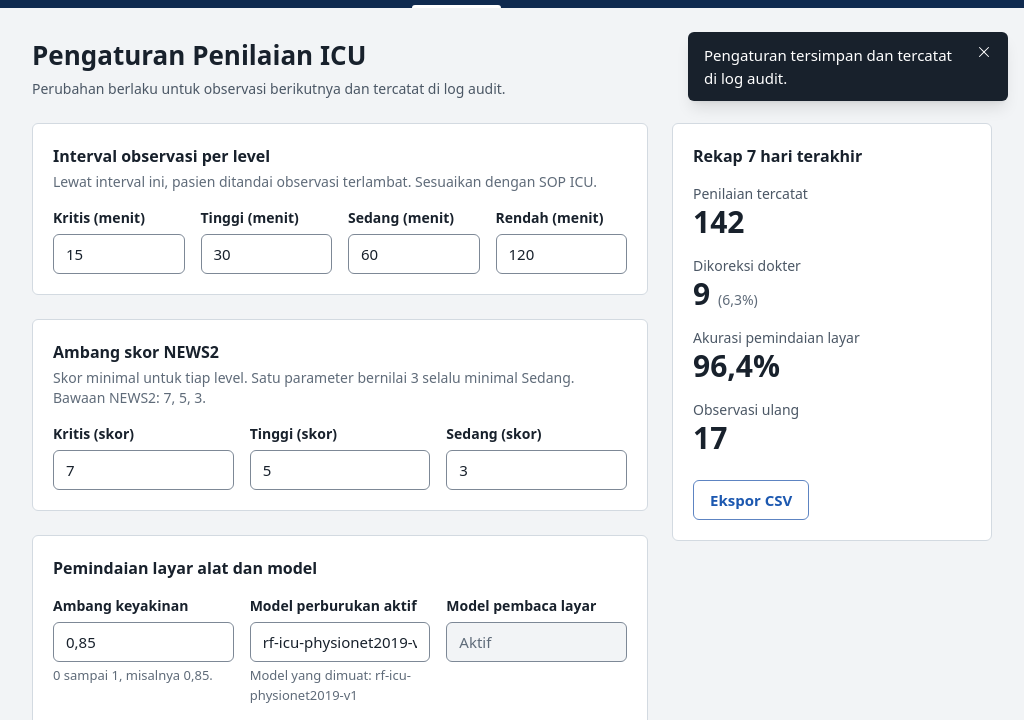
Test: Pengaturan Penilaian ICU › memeriksa isian di klien
Expected: the field showing "rf-icu-physionet2019-v1" is shown, [250, 622, 430, 662]
Replace the text in the field labelled "Kritis (skor)" with "40" at (143, 470), box [53, 450, 234, 490]
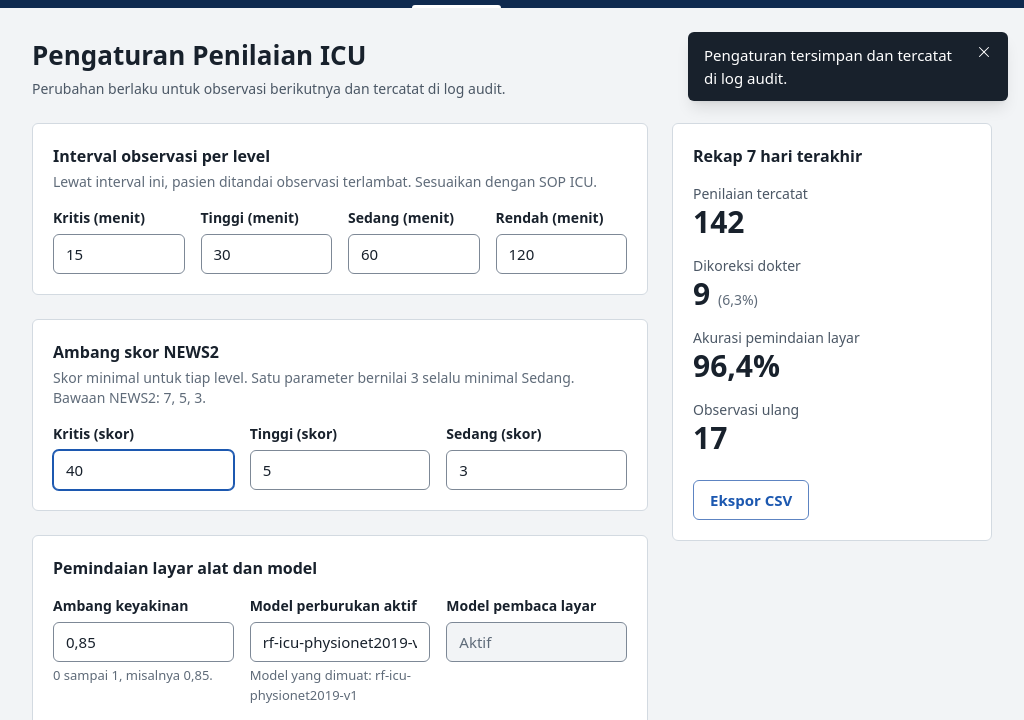
Clear the field labelled "Kritis (menit)" at (119, 254), box [53, 234, 184, 274]
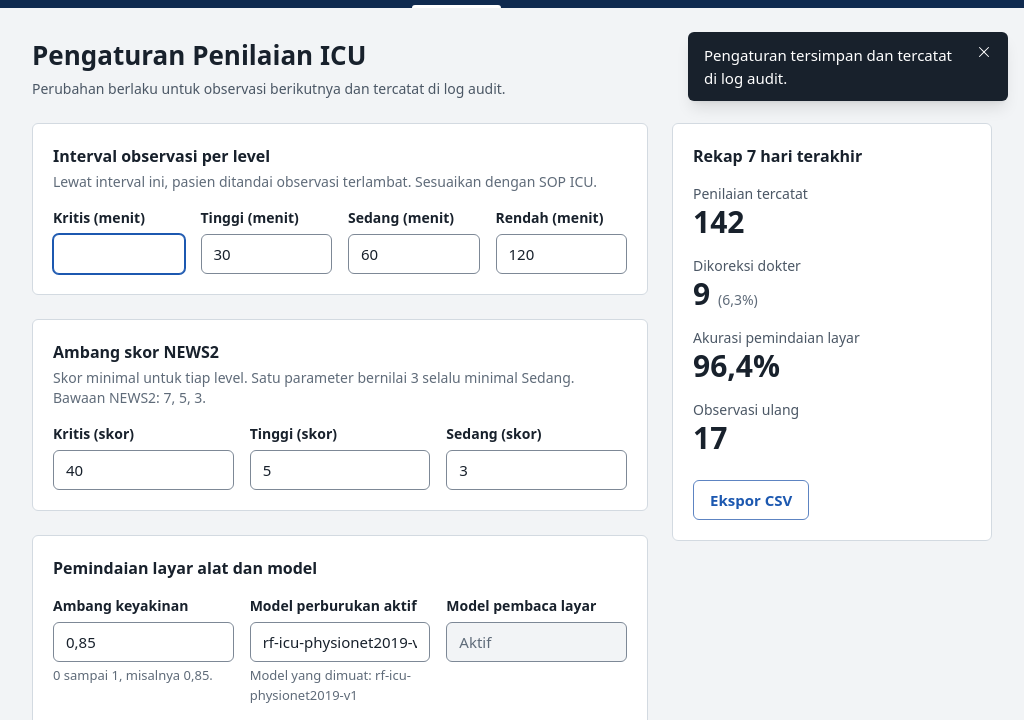
Replace the text in the field labelled "Ambang keyakinan" with "abc" at (143, 642), box [53, 622, 234, 662]
(page scrolled)
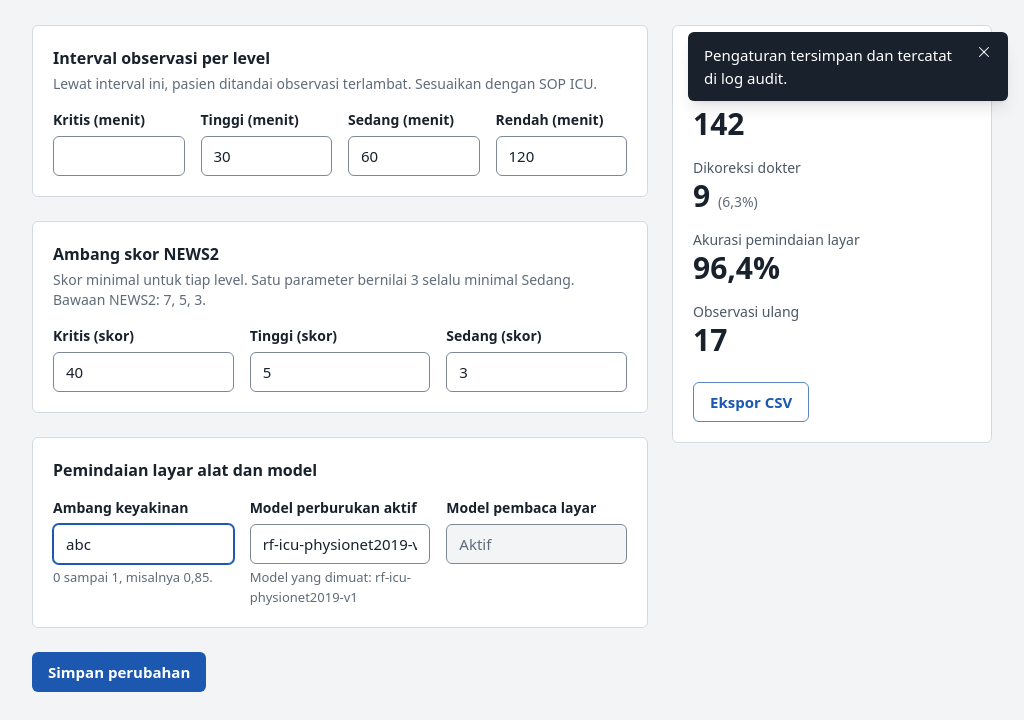
Click the button "Simpan perubahan" at (119, 672), box [32, 652, 206, 692]
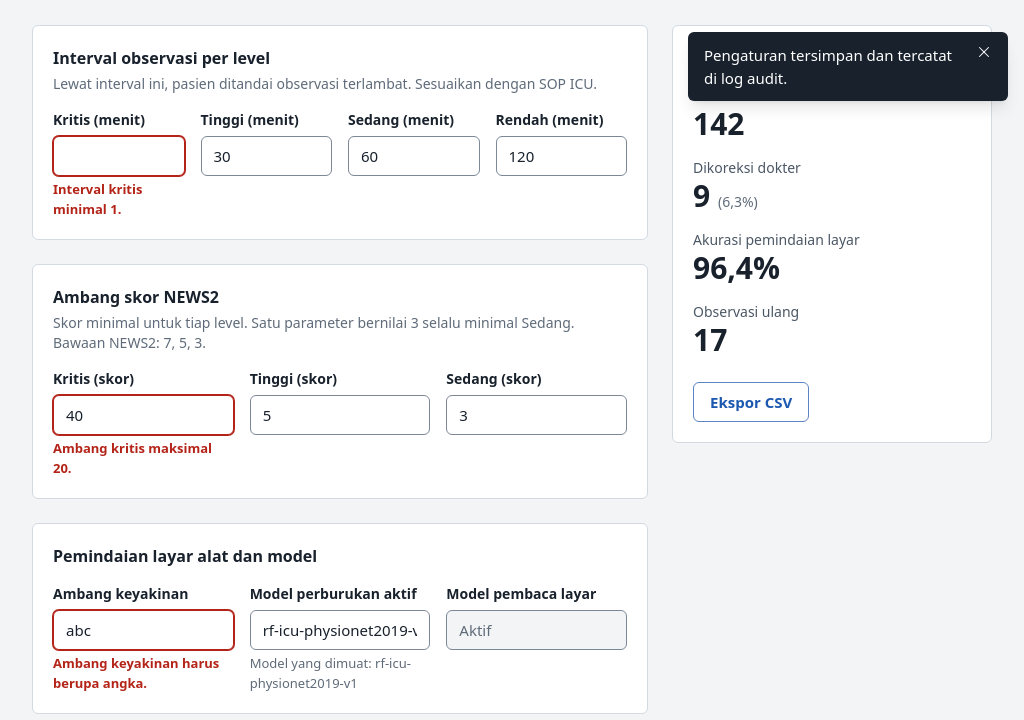
Expected: the text "Ambang kritis maksimal 20." is shown, [53, 439, 234, 478]
Expected: the text "Interval kritis minimal 1." is shown, [53, 180, 142, 218]
Expected: the text "Ambang keyakinan harus berupa angka." is shown, [53, 654, 234, 693]
